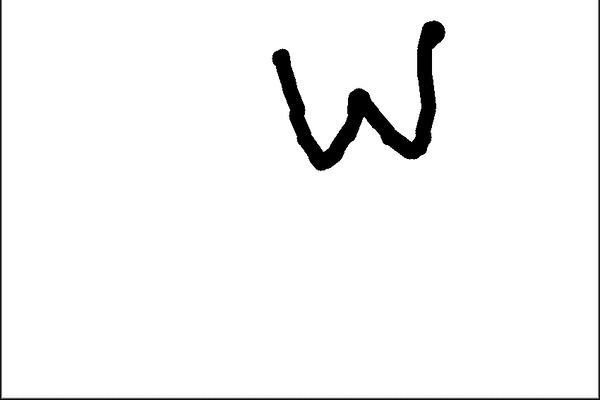w: (257, 16, 477, 177)
